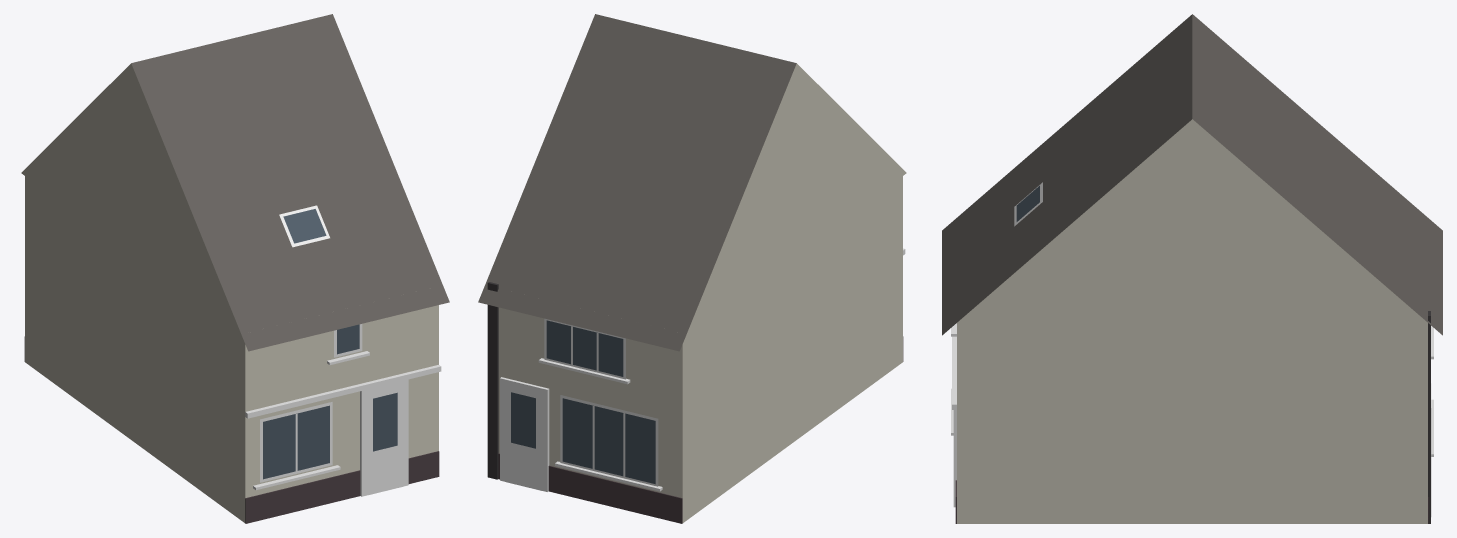
File: nw-ee-band-row__band__2__gable__long__solid__f0d0.glb
3 views of the same model, side by side, from view 1: azimuth 30°, elevation 25°; view 2: azimuth 150°, elevation 25°; view 3: azimuth 270°, elevation 25° (orthographic). The views are drawn at different scales.
Visible parts, largest first — view 1: nw-ee-band-row__band__2__gable__long__solid__f0d0; view 2: nw-ee-band-row__band__2__gable__long__solid__f0d0; view 3: nw-ee-band-row__band__2__gable__long__solid__f0d0.
Boxes of the visible parts, <box> form: nw-ee-band-row__band__2__gable__long__solid__f0d0: <box>21,14,449,523</box>; nw-ee-band-row__band__2__gable__long__solid__f0d0: <box>478,14,906,523</box>; nw-ee-band-row__band__2__gable__long__solid__f0d0: <box>942,14,1442,523</box>.
Size of the model in its own units: 4.99 by 9.01 by 10.04.
